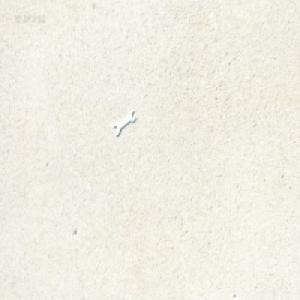Wrench: (112, 109, 135, 137)
